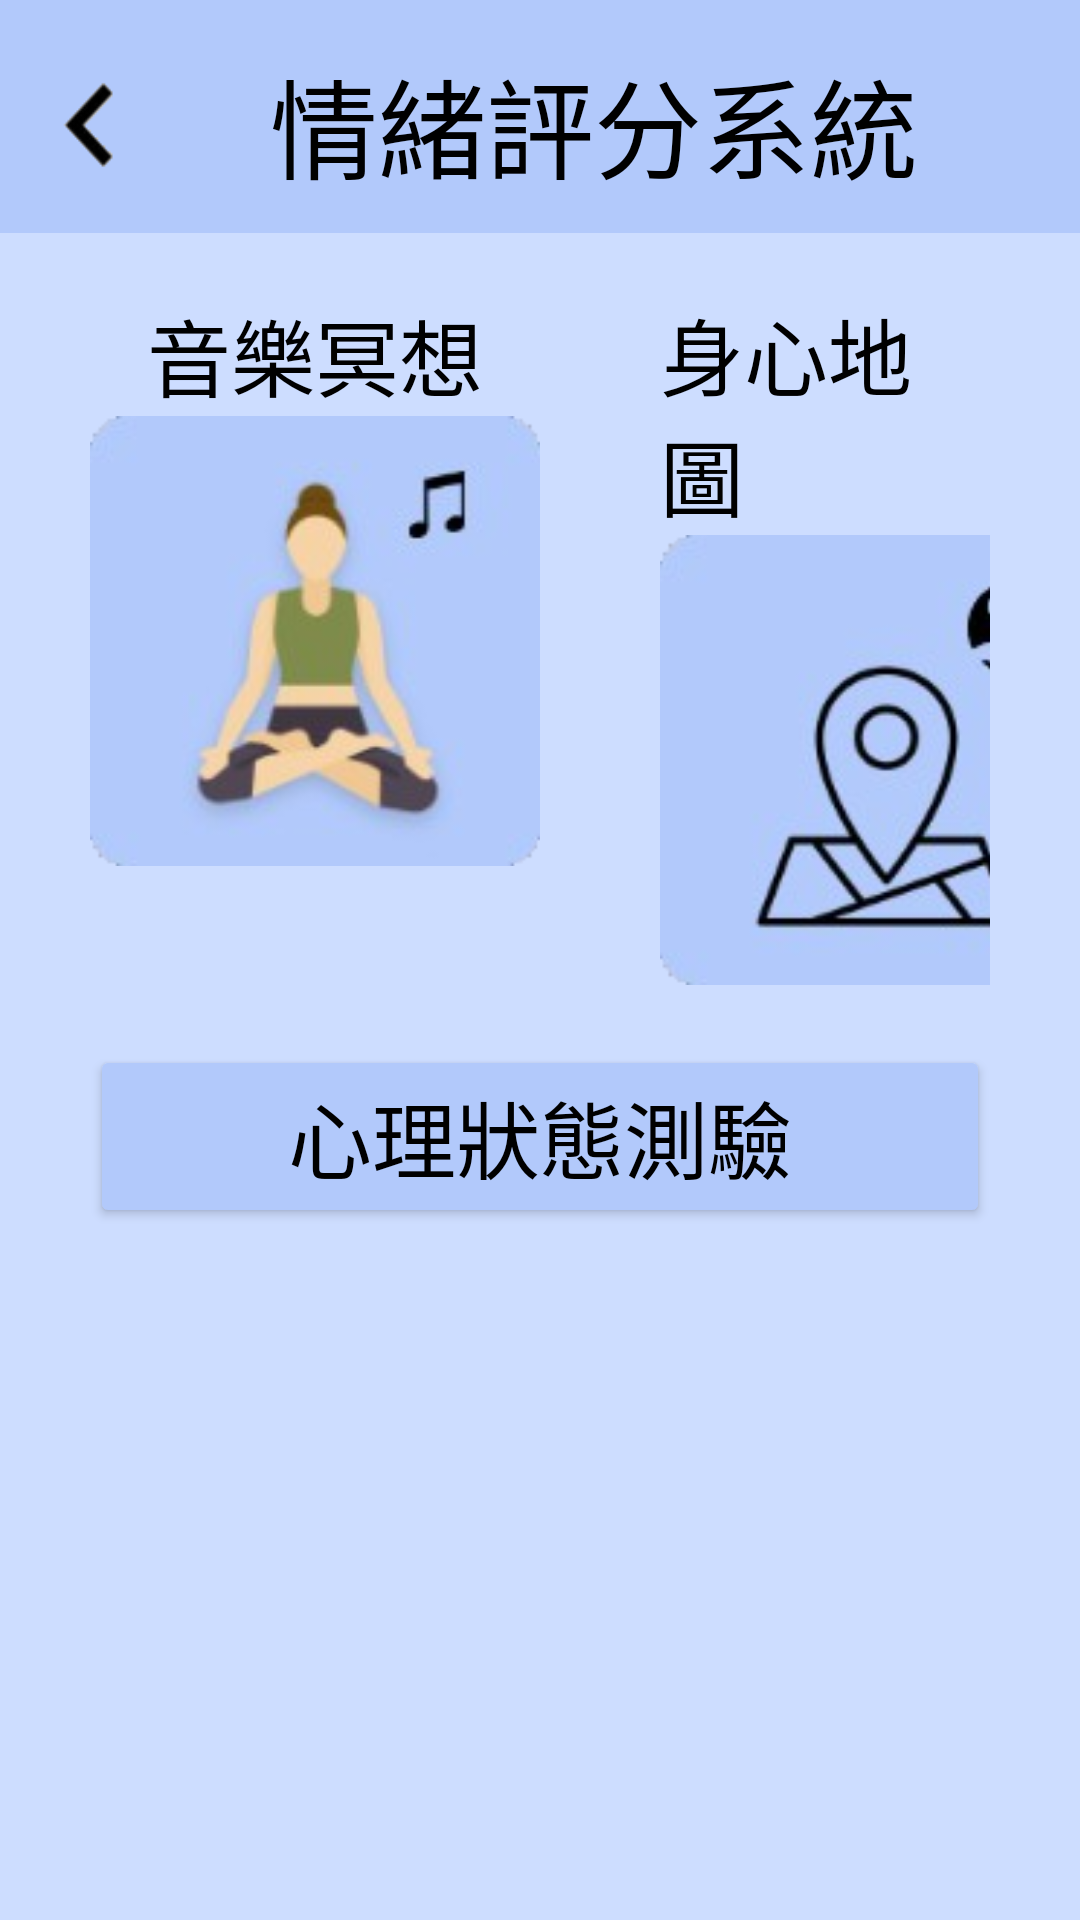

Icon bounding boxes for this 1080 × 1920 phone screenshot, format (x1, y1, x2, y2):
back arrow: (64, 83, 113, 167)
